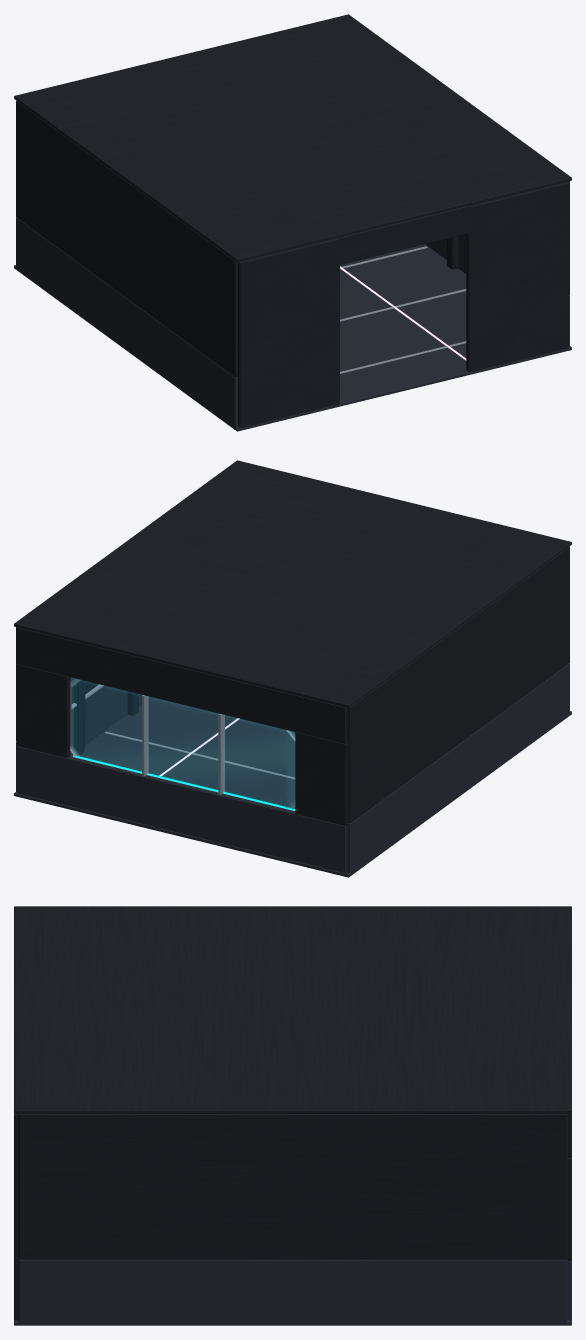
Rendered from room_04_shell.glb.
3 views of the same model, one above another, from view 1: azimuth 30°, elevation 25°; view 2: azimuth 150°, elevation 25°; view 3: azimuth 270°, elevation 25° (orthographic). The views are drawn at different scales.
Visible parts, largest first — view 1: Room04_OctagonalGunmetalRibsAndWalls, Room04_CarbonSlateDeckAndWainscot, Room04_MachinedSteelBezelsAndStrips; view 2: Room04_OctagonalGunmetalRibsAndWalls, Room04_CarbonSlateDeckAndWainscot, Room04_NorthDeepSpaceTranslucentGlass, Room04_MachinedSteelBezelsAndStrips, Room04_OrbitalCyanCovesAndWindowRim; view 3: Room04_OctagonalGunmetalRibsAndWalls, Room04_CarbonSlateDeckAndWainscot.
Boxes of the visible parts, x1,y1,x2,y2 form: Room04_OctagonalGunmetalRibsAndWalls: (14,14,571,427); Room04_CarbonSlateDeckAndWainscot: (14,217,571,431); Room04_MachinedSteelBezelsAndStrips: (340,246,466,373); Room04_OctagonalGunmetalRibsAndWalls: (14,460,571,872); Room04_CarbonSlateDeckAndWainscot: (14,663,571,877); Room04_NorthDeepSpaceTranslucentGlass: (71,678,294,810); Room04_MachinedSteelBezelsAndStrips: (70,678,295,809); Room04_OrbitalCyanCovesAndWindowRim: (73,755,295,810); Room04_OctagonalGunmetalRibsAndWalls: (14,906,571,1320); Room04_CarbonSlateDeckAndWainscot: (14,1259,571,1325).
Size of the model in its own units: 6.5 by 3.2 by 7.5.
Materials: 8 (8 with a texture image).
